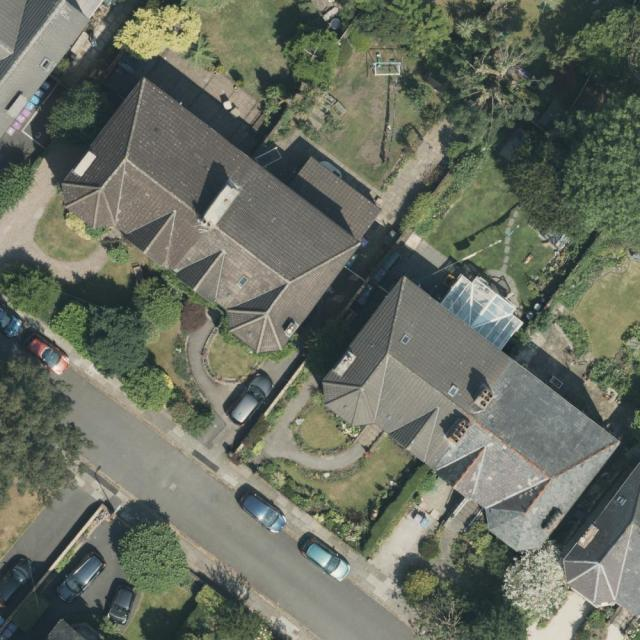roof: (59, 77, 385, 354), (321, 273, 622, 552), (0, 0, 103, 138), (566, 456, 640, 619)
skylight: (440, 275, 522, 350), (233, 272, 252, 290), (397, 332, 415, 348), (444, 383, 462, 398), (37, 57, 53, 72)
